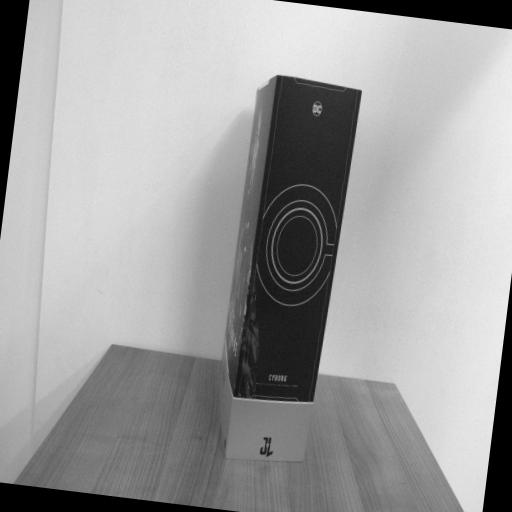Cyborg: (212, 72, 364, 469)
